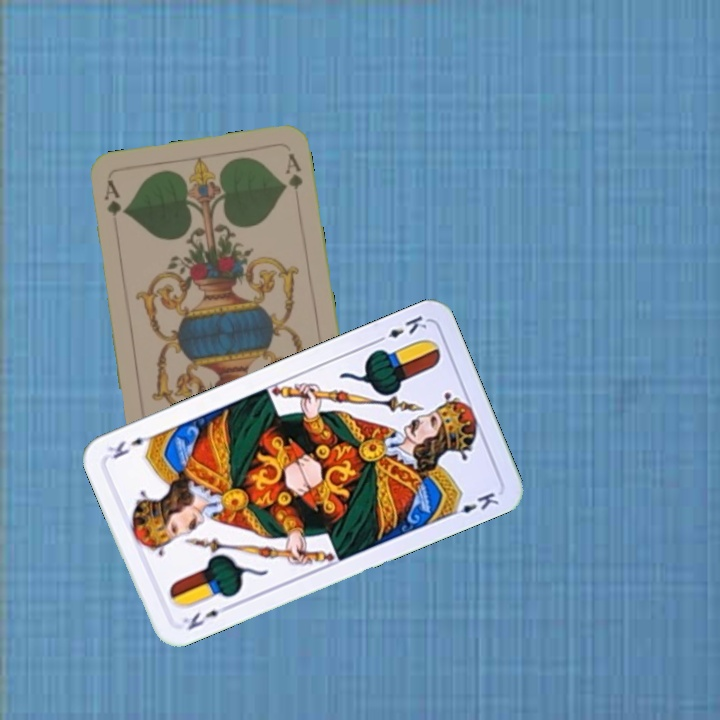EK: (371, 311, 430, 346), (178, 600, 233, 633)
GA: (100, 176, 124, 219)
